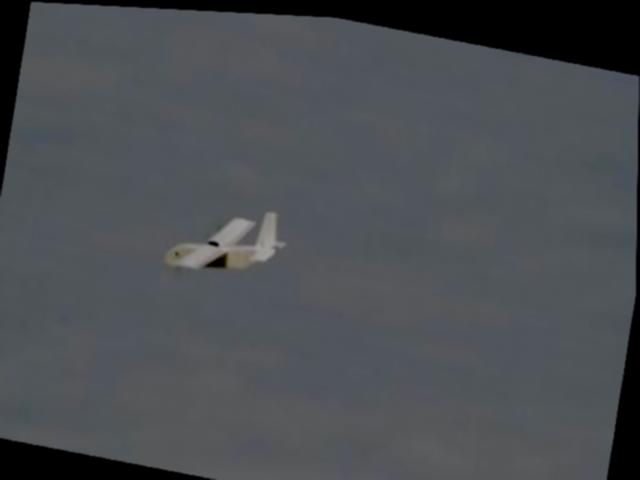uav: (159, 194, 292, 289)
